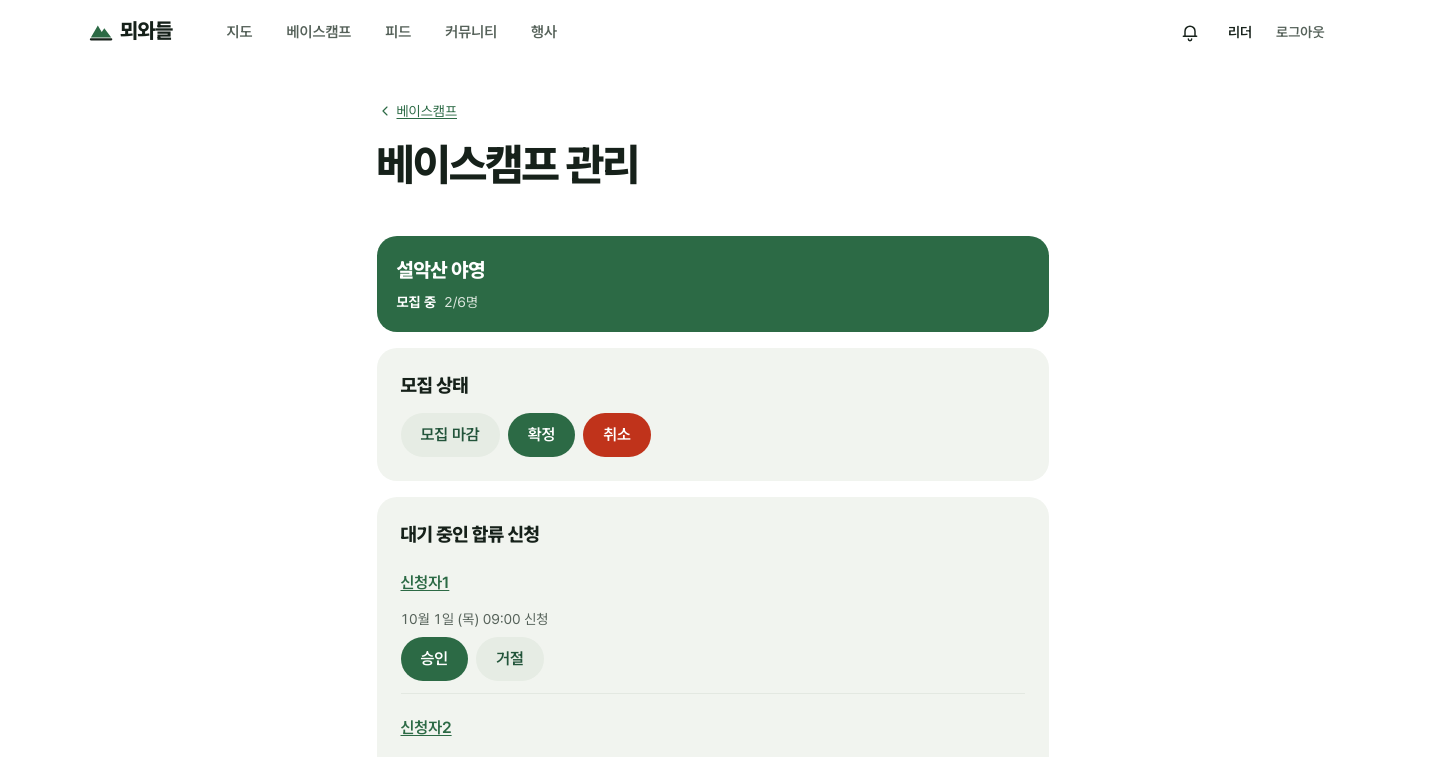
베이스캠프 관리 화면의 신청 목록 › 승인 뒤 새로고침이 실패해도 받아 둔 신청 목록은 오류와 함께 남는다
The image size is (1440, 757).
Click the button "승인" below "신청자1": (434, 659) [400,637,468,681]
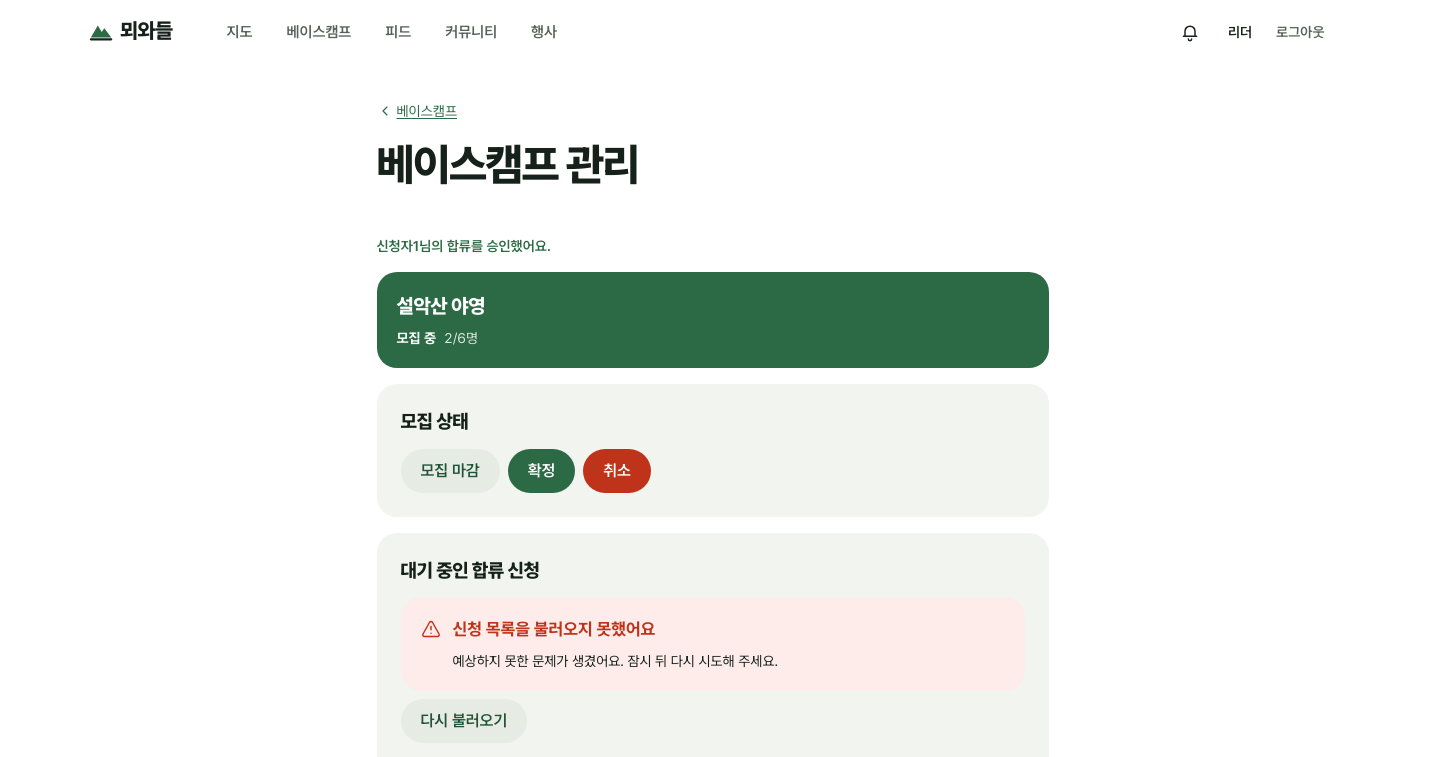
Expected: the text "신청자1" is shown, [376,238,551,254]
Now the text "신청 목록을 불러오지 못했어요" is shown, box [452,619,655,639]
